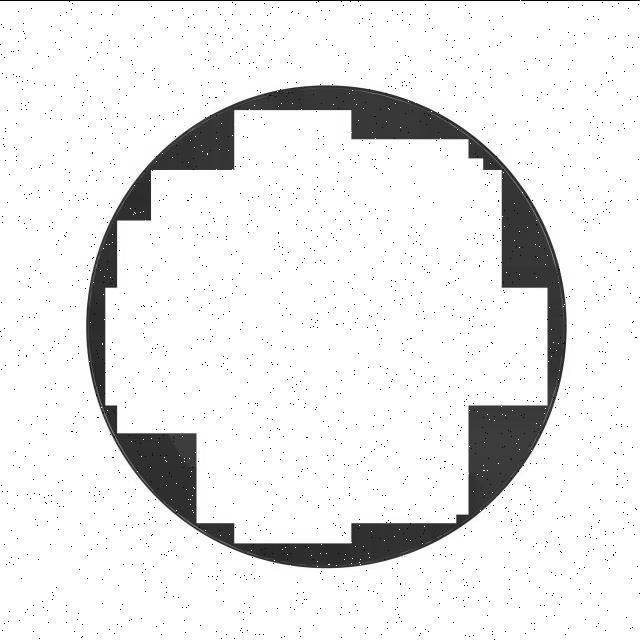Circle: (80, 80, 573, 574)
